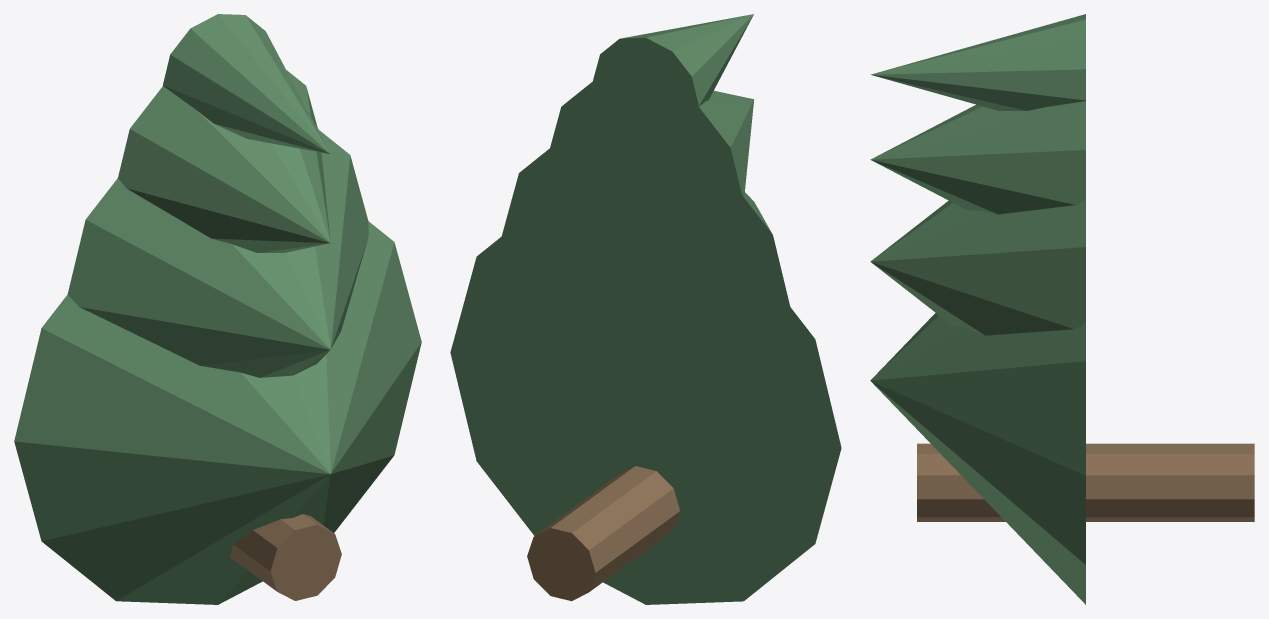
Rendered from tree_pine.glb.
3 views of the same model, side by side, from view 1: azimuth 30°, elevation 25°; view 2: azimuth 150°, elevation 25°; view 3: azimuth 270°, elevation 25° (orthographic). The views are drawn at different scales.
Visible parts, largest first — view 1: part_1, part_2, part_3, part_4, part_0; view 2: part_1, part_2, part_3, part_0, part_4; view 3: part_1, part_2, part_0, part_3, part_4.
Boxes of the visible parts, box(x1,y1,x2,y2) form: part_1: box(14, 221, 421, 604); part_2: box(67, 129, 368, 377); part_3: box(118, 70, 330, 252); part_4: box(163, 14, 330, 154); part_0: box(229, 514, 341, 600); part_1: box(450, 195, 841, 604); part_2: box(499, 127, 790, 433); part_3: box(548, 76, 754, 279); part_0: box(527, 466, 679, 601); part_4: box(593, 14, 753, 148); part_1: box(870, 313, 1085, 604); part_2: box(870, 200, 1085, 335); part_0: box(917, 443, 1254, 521); part_3: box(870, 101, 1085, 214); part_4: box(871, 14, 1085, 110).
Size of the model in its own units: 4.8 by 6.65 by 4.1.
